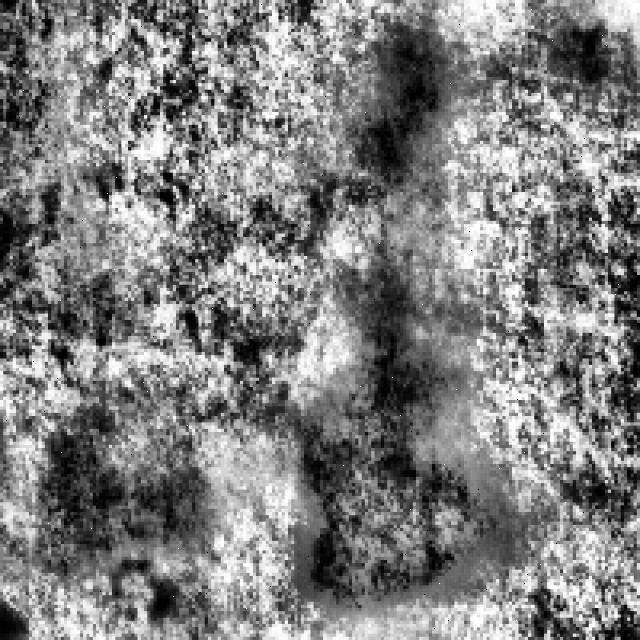Scratches: (300, 268, 516, 598), (35, 393, 211, 570), (365, 32, 445, 173)
